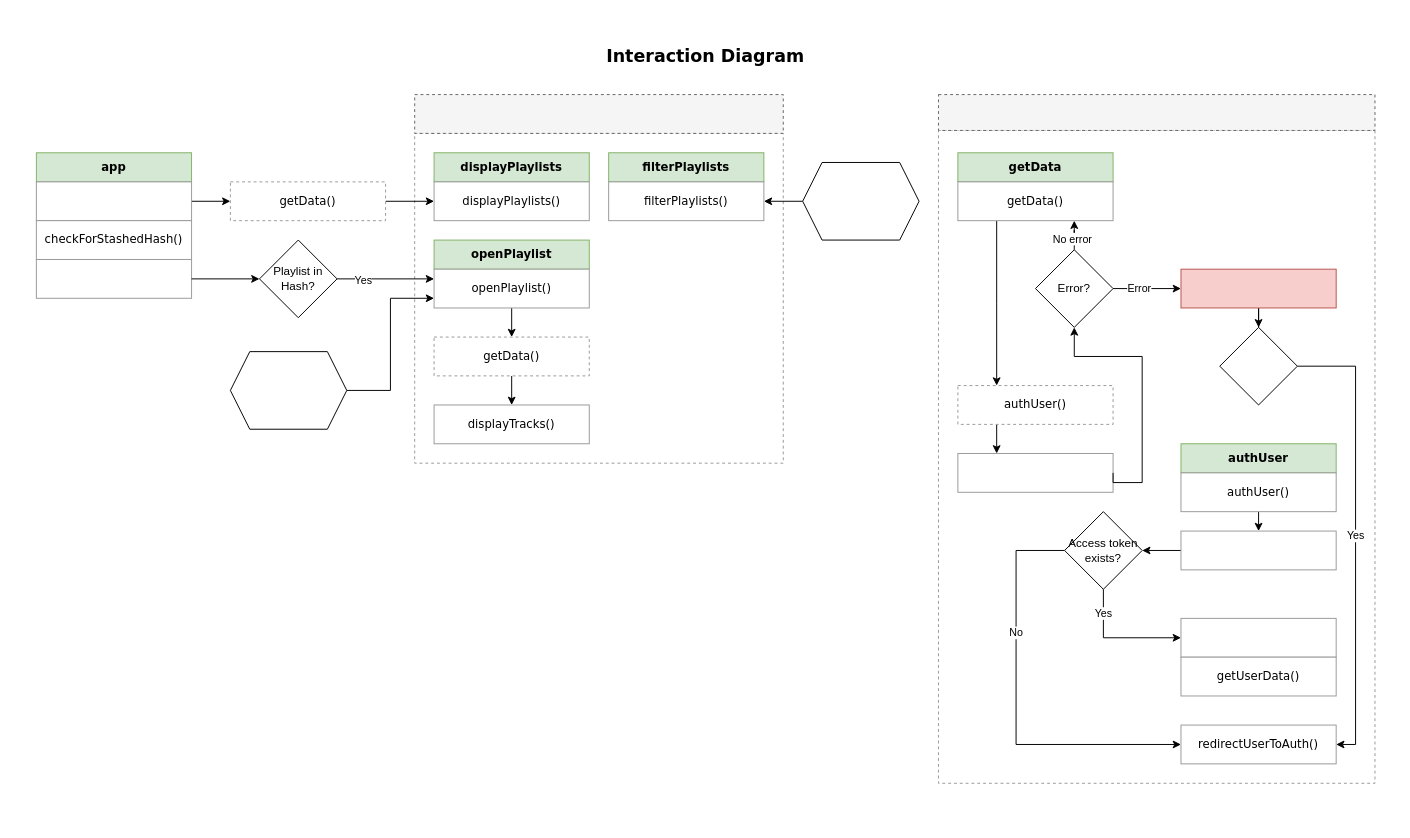
Image size: 1410x838. Some labels were removed from this diagram. The shapes that lost their labels are listed below. From the top down, each one's centre as x and y in pixels, then its label:
[598,113]: render
[1156,112]: data
[113,201]: getPlaylists()
[860,201]: Display playlists you own
[113,278]: checkForPlaylistInHash()
[1258,288]: Throw Error
[1258,365]: Access token expired?
[288,390]: Clicked on Playlist
[1035,472]: fetchData()
[1258,550]: getAccessToken()
[1258,637]: cleanUpUrl()
